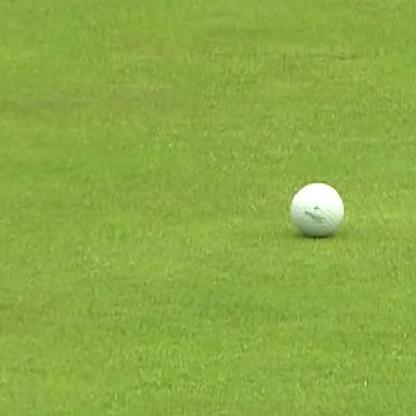golfball: (286, 181, 343, 237)
